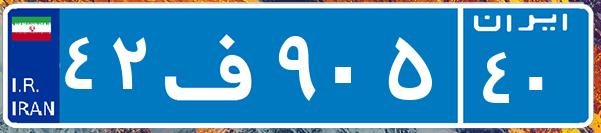0: (330, 28, 385, 110), (525, 38, 570, 115)
2: (110, 28, 158, 105)
4: (57, 26, 110, 107), (475, 38, 525, 113)
5: (385, 28, 445, 110)
9: (273, 28, 330, 110)
ف: (158, 15, 273, 115)
